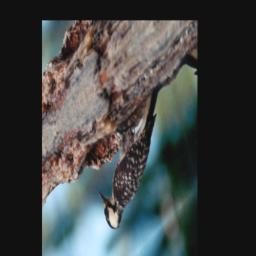Woodpecker: (87, 74, 183, 250)
